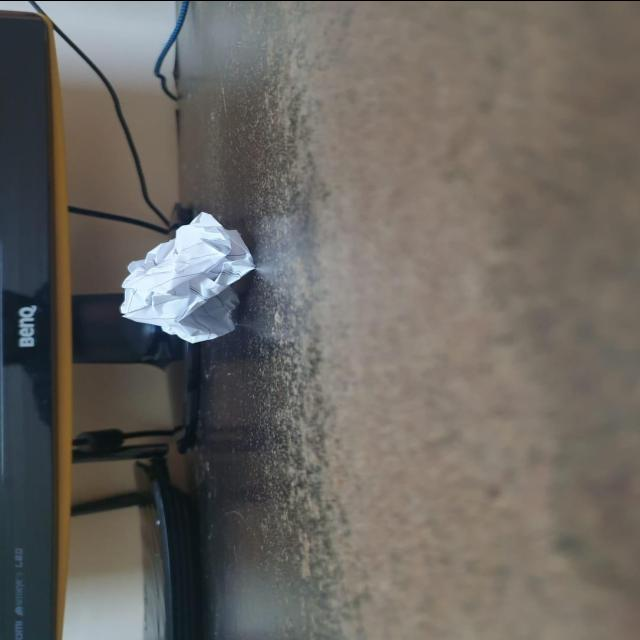kertas: (120, 218, 258, 344)
